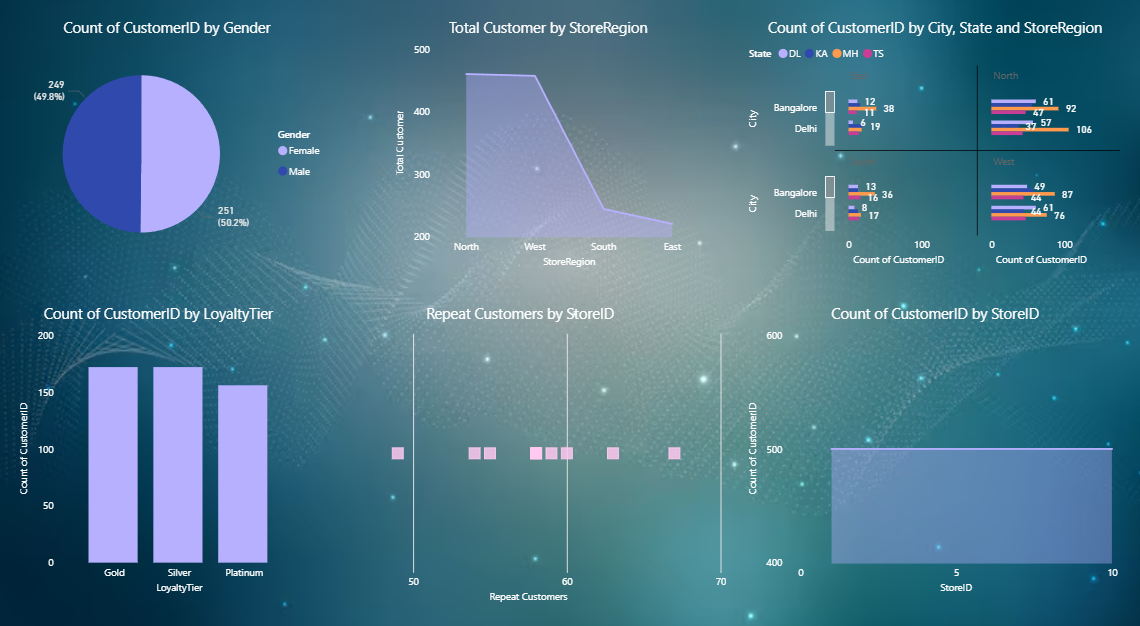

The page's visual inventory and layout, read from the dashboard file:
{"tool":"powerbi","page":{"name":"Customer insights","canvas":[1280,720],"ordinal":4},"visuals":[{"type":"pieChart","fields":{"Category":["Customer_Dim.Gender"],"Y":["CountNonNull(Customer_Dim.CustomerID)"]},"box":[9.6,31.6,365,279.9],"z":0},{"type":"columnChart","fields":{"Category":["Customer_Dim.LoyaltyTier"],"Y":["CountNonNull(Customer_Dim.CustomerID)"]},"box":[26.1,345.8,312.9,323.8],"z":1000},{"type":"areaChart","fields":{"Category":["Store_Dim.StoreRegion"],"Y":["Measure.Total Customer"]},"box":[439.1,31.6,343.1,279.9],"z":2000},{"type":"scatterChart","fields":{"X":["Measure.Repeat Customers"],"Category":["Store_Dim.StoreID"]},"box":[348.5,345.8,462.4,333.4],"z":3000},{"type":"clusteredBarChart","fields":{"Category":["Customer_Dim.City"],"Rows":["Store_Dim.StoreRegion"],"Y":["CountNonNull(Fact_sales.CustomerID)"],"Series":["Customer_Dim.State"]},"box":[826.1,31.6,418.5,279.9],"z":4000},{"type":"areaChart","fields":{"Category":["Store_Dim.StoreID"],"Y":["CountNonNull(Customer_Dim.CustomerID)"]},"box":[826.1,345.8,418.5,323.8],"z":5000}]}

Visuals, with their boxes in screenshot pixels (x1, y1, x2, y2), scaled from the page's 1280x720 canvas onto the 1140x626 screenshot:
pieChart - Customer_Dim.Gender x CountNonNull(Customer_Dim.CustomerID): [9,27,334,271]
columnChart - Customer_Dim.LoyaltyTier x CountNonNull(Customer_Dim.CustomerID): [23,301,302,582]
areaChart - Store_Dim.StoreRegion x Measure.Total Customer: [391,27,697,271]
scatterChart - Measure.Repeat Customers x Store_Dim.StoreID: [310,301,722,591]
clusteredBarChart - Customer_Dim.City x Store_Dim.StoreRegion: [736,27,1108,271]
areaChart - Store_Dim.StoreID x CountNonNull(Customer_Dim.CustomerID): [736,301,1108,582]
